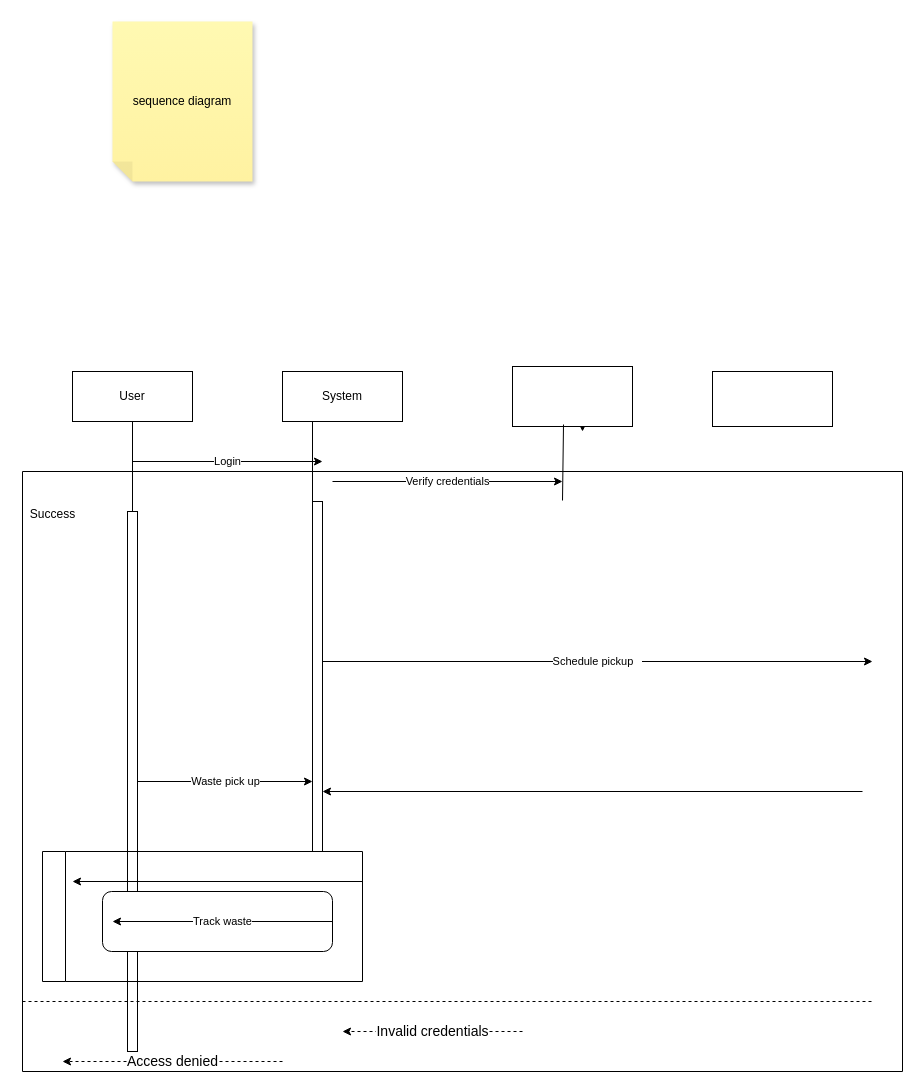
Image size: 920x1089. Some labels were removed from this diagram. Here are the shapes that lost their labels. From the top down, the centre of each, then its label:
At (x=572, y=396): "Database".
At (x=772, y=398): "Waste service".
